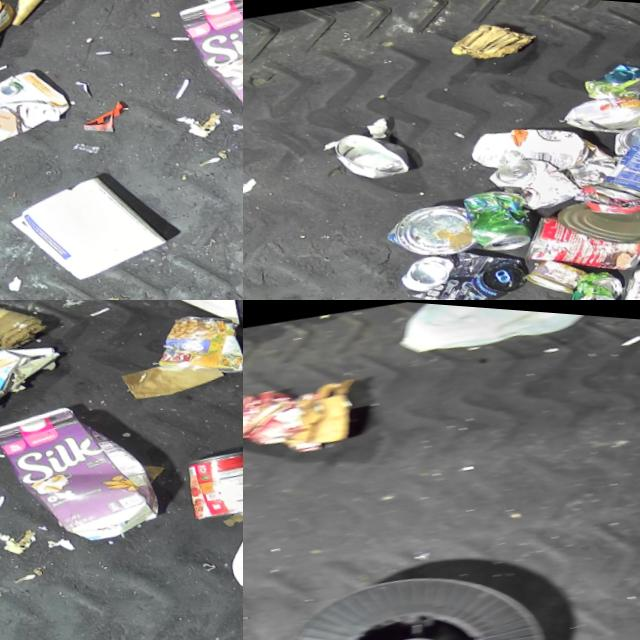can: (510, 185, 640, 285), (387, 228, 526, 300), (161, 419, 243, 529), (480, 141, 581, 216), (549, 172, 640, 255), (373, 190, 474, 264), (582, 107, 640, 215), (455, 178, 535, 255), (321, 118, 408, 187), (554, 77, 640, 138), (515, 244, 587, 297), (545, 258, 628, 300), (609, 240, 640, 300), (603, 110, 640, 152)
milk_jug: (387, 300, 607, 364), (193, 448, 243, 621)
non_white_jug: (169, 0, 243, 137), (0, 56, 70, 158)
